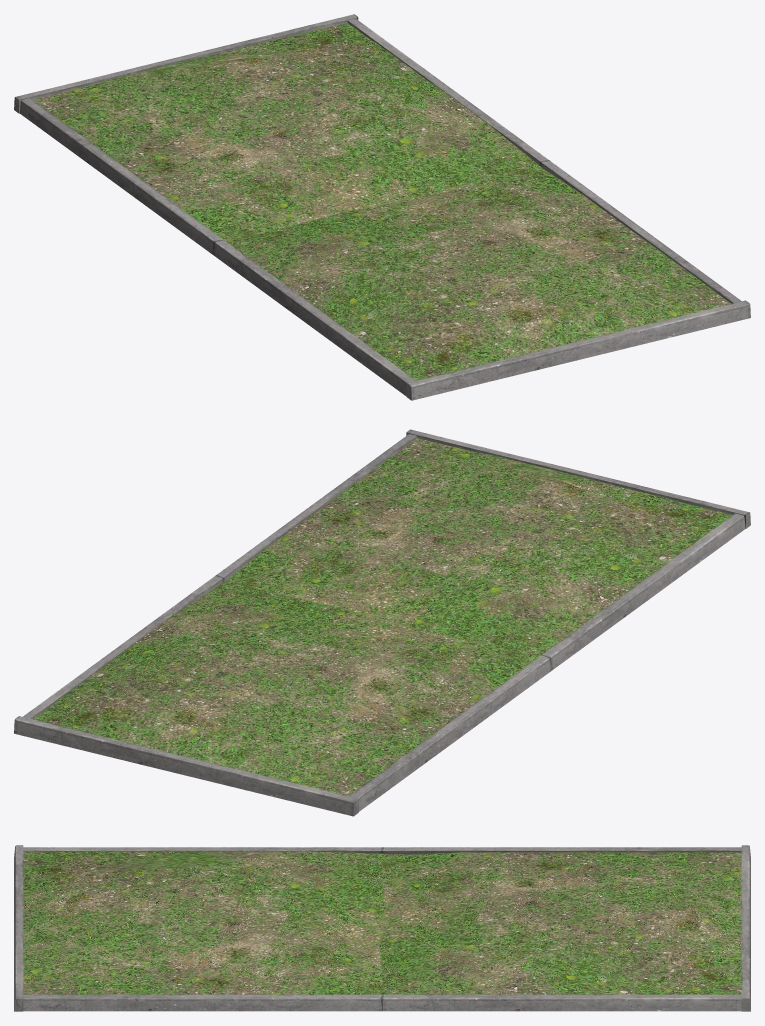
The model's file is MB_Flowerbed_Tree_01.fbx.
3 views of the same model, one above another, from view 1: azimuth 30°, elevation 25°; view 2: azimuth 150°, elevation 25°; view 3: azimuth 270°, elevation 25° (orthographic). The views are drawn at different scales.
Visible parts, largest first — view 1: MB_Flowerbed_Tree_01; view 2: MB_Flowerbed_Tree_01; view 3: MB_Flowerbed_Tree_01.
Boxes of the visible parts, <box> form: MB_Flowerbed_Tree_01: <box>14,14,750,400</box>; MB_Flowerbed_Tree_01: <box>14,429,750,816</box>; MB_Flowerbed_Tree_01: <box>14,845,750,1011</box>.
Size of the model in its own units: 200 by 16.35 by 405.
